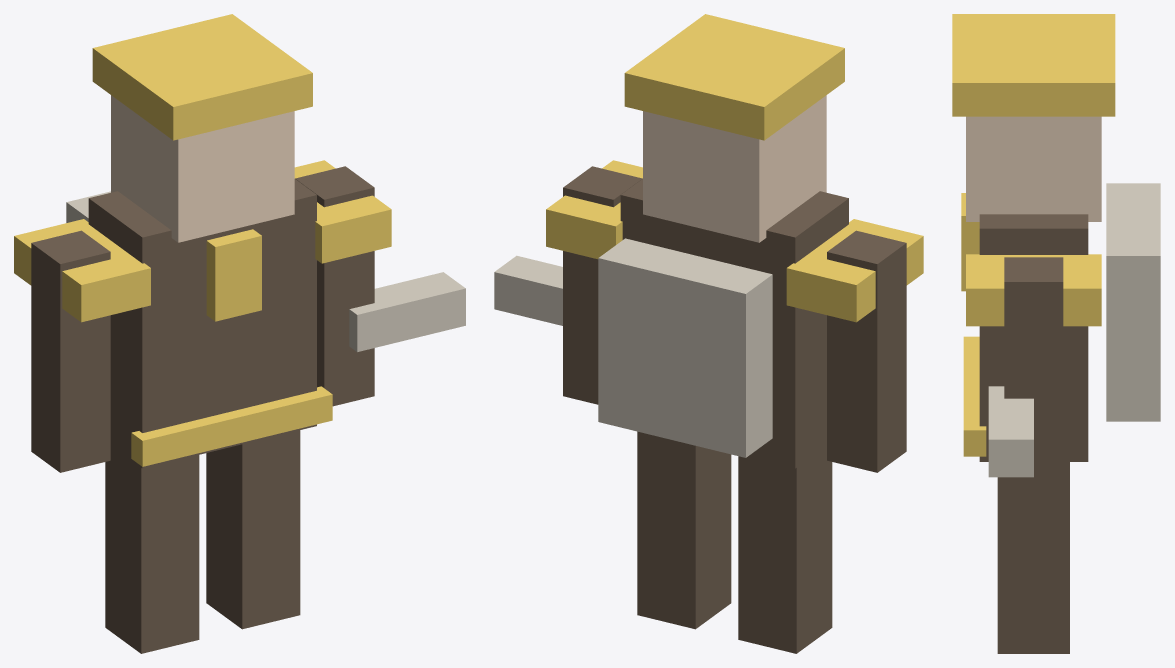
Rendered from 08_eryk_cinderholt_marshal_near_loot.glb.
The picture shows the model from 3 angles, left to right: view 1: azimuth 30°, elevation 25°; view 2: azimuth 150°, elevation 25°; view 3: azimuth 270°, elevation 25°; orthographic projection.
Parts seen in each view (by area): view 1: Eryk Cinderholt, Marshal near Loot; view 2: Eryk Cinderholt, Marshal near Loot; view 3: Eryk Cinderholt, Marshal near Loot.
Part boxes in pixels (x1,y1,x2,y2): Eryk Cinderholt, Marshal near Loot: (14, 14, 465, 653); Eryk Cinderholt, Marshal near Loot: (494, 14, 923, 653); Eryk Cinderholt, Marshal near Loot: (952, 14, 1160, 653).
Size of the model in its own units: 1.11 by 1.5 by 0.5.
